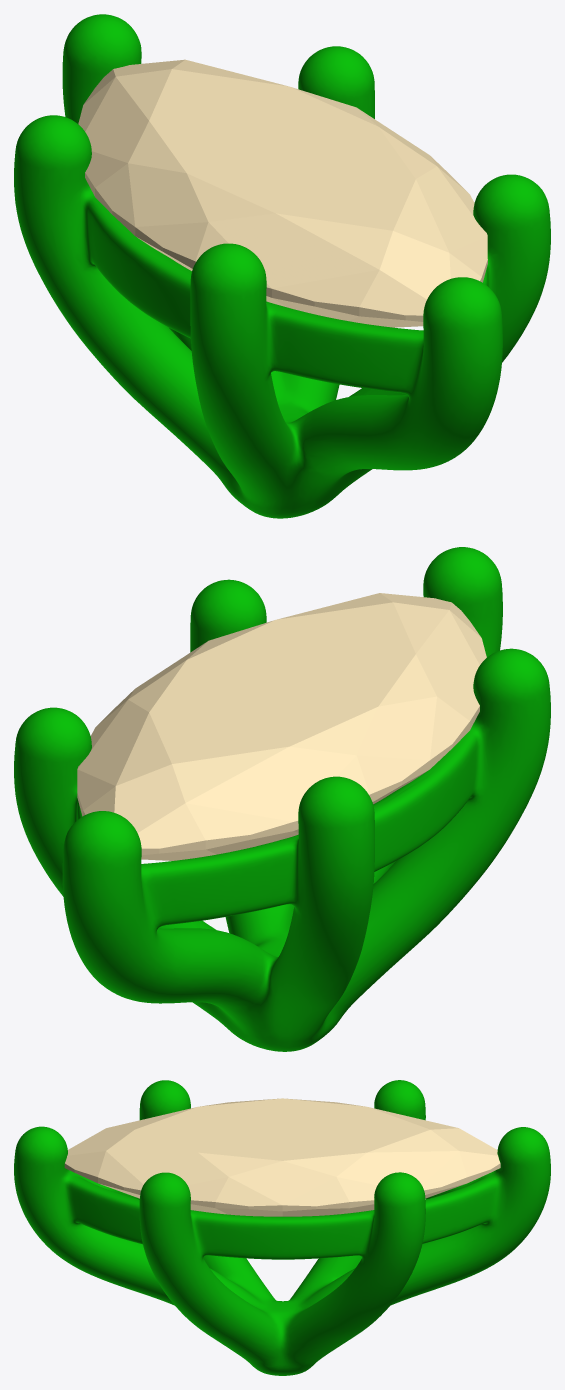
3 renders of one model, top to bottom at view 1: azimuth 30°, elevation 25°; view 2: azimuth 150°, elevation 25°; view 3: azimuth 270°, elevation 25°, orthographic. The views are drawn at different scales.
Parts seen in each view (by area): view 1: Metal01, Diamond_Marquise; view 2: Metal01, Diamond_Marquise; view 3: Metal01, Diamond_Marquise.
Boxes of the visible parts, box(x1,y1,x2,y2) form: Metal01: box(14, 14, 550, 518); Diamond_Marquise: box(78, 59, 487, 327); Metal01: box(14, 547, 550, 1051); Diamond_Marquise: box(77, 593, 486, 860); Metal01: box(14, 1080, 550, 1375); Diamond_Marquise: box(64, 1098, 500, 1216).
Size of the model in its own units: 5.48 by 5.41 by 10.85.
